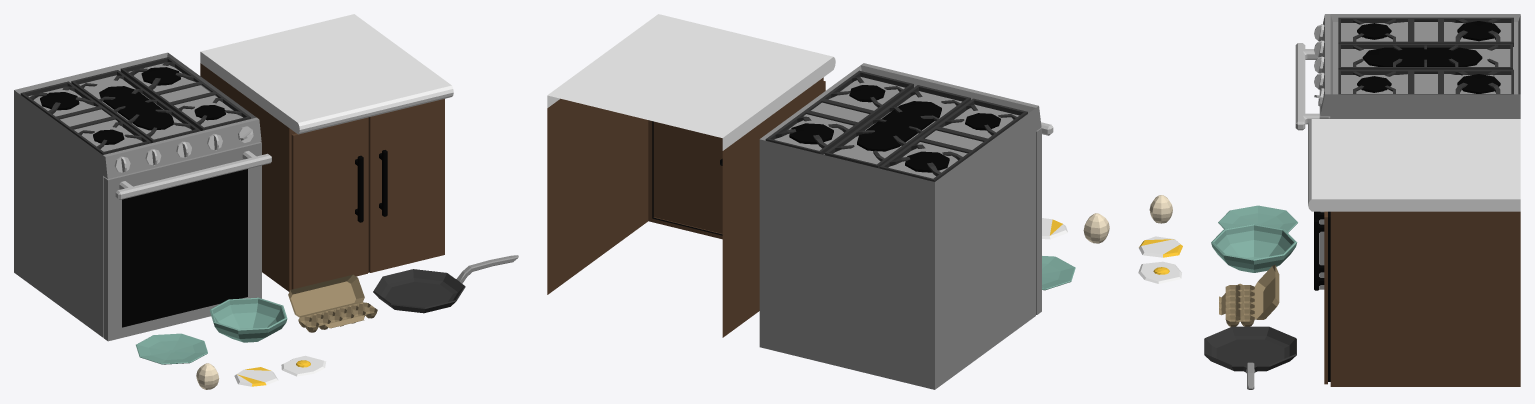
Rendered from Various Low-poly Models.fbx.
3 views of the same model, side by side, from view 1: azimuth 30°, elevation 25°; view 2: azimuth 150°, elevation 25°; view 3: azimuth 270°, elevation 25° (orthographic). The views are drawn at different scales.
Parts seen in each view (by area): view 1: Oven, Counter, Pan, Egg Carton, Bowl, Plate, Egg Sunny, Egg Scrambled, Egg; view 2: Oven, Counter, Plate, Egg; view 3: Counter, Oven, Pan, Bowl, Egg Carton, Plate, Egg Sunny, Egg Scrambled, Egg.
Part boxes in pixels (bbox=[...]): Oven: bbox=[14, 52, 271, 341]; Counter: bbox=[200, 14, 453, 291]; Pan: bbox=[373, 255, 518, 313]; Egg Carton: bbox=[288, 274, 377, 332]; Bowl: bbox=[209, 297, 287, 342]; Plate: bbox=[136, 333, 207, 364]; Egg Sunny: bbox=[281, 355, 326, 376]; Egg Scrambled: bbox=[234, 367, 278, 386]; Egg: bbox=[196, 363, 219, 389]; Oven: bbox=[759, 63, 1053, 389]; Counter: bbox=[547, 14, 835, 337]; Plate: bbox=[1042, 256, 1075, 290]; Egg: bbox=[1083, 213, 1109, 243]; Counter: bbox=[1308, 119, 1520, 386]; Oven: bbox=[1295, 14, 1520, 289]; Pan: bbox=[1204, 326, 1296, 389]; Bowl: bbox=[1211, 224, 1297, 272]; Egg Carton: bbox=[1219, 265, 1279, 326]; Plate: bbox=[1218, 205, 1297, 232]; Egg Sunny: bbox=[1138, 261, 1181, 283]; Egg Scrambled: bbox=[1139, 236, 1182, 257]; Egg: bbox=[1149, 195, 1172, 223].
Bounding box in the file's own units: 2.46 × 1.15 × 2.01.
